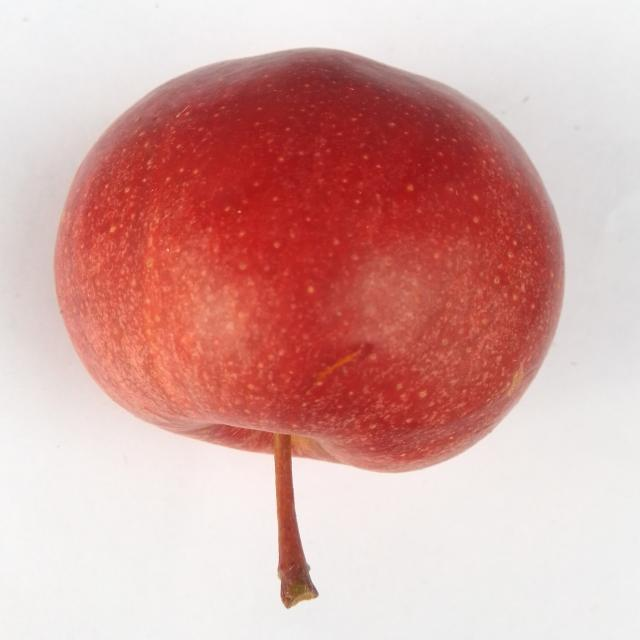Fresh Apple: (65, 40, 552, 478)
